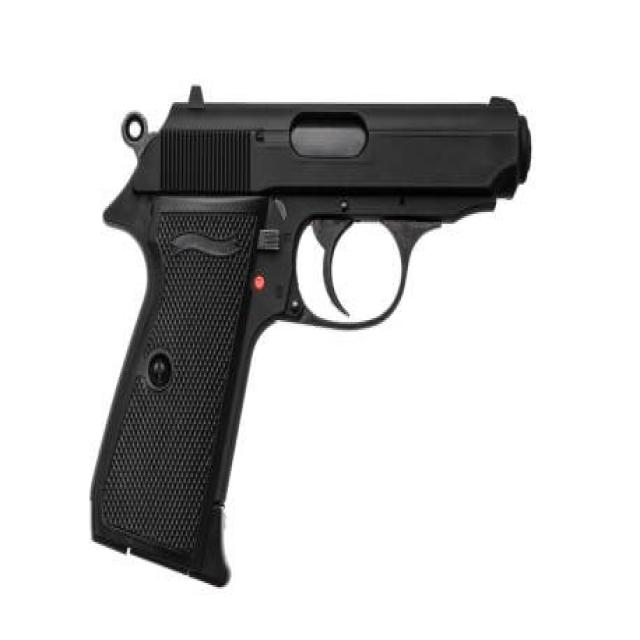pistol: (79, 79, 538, 594)
